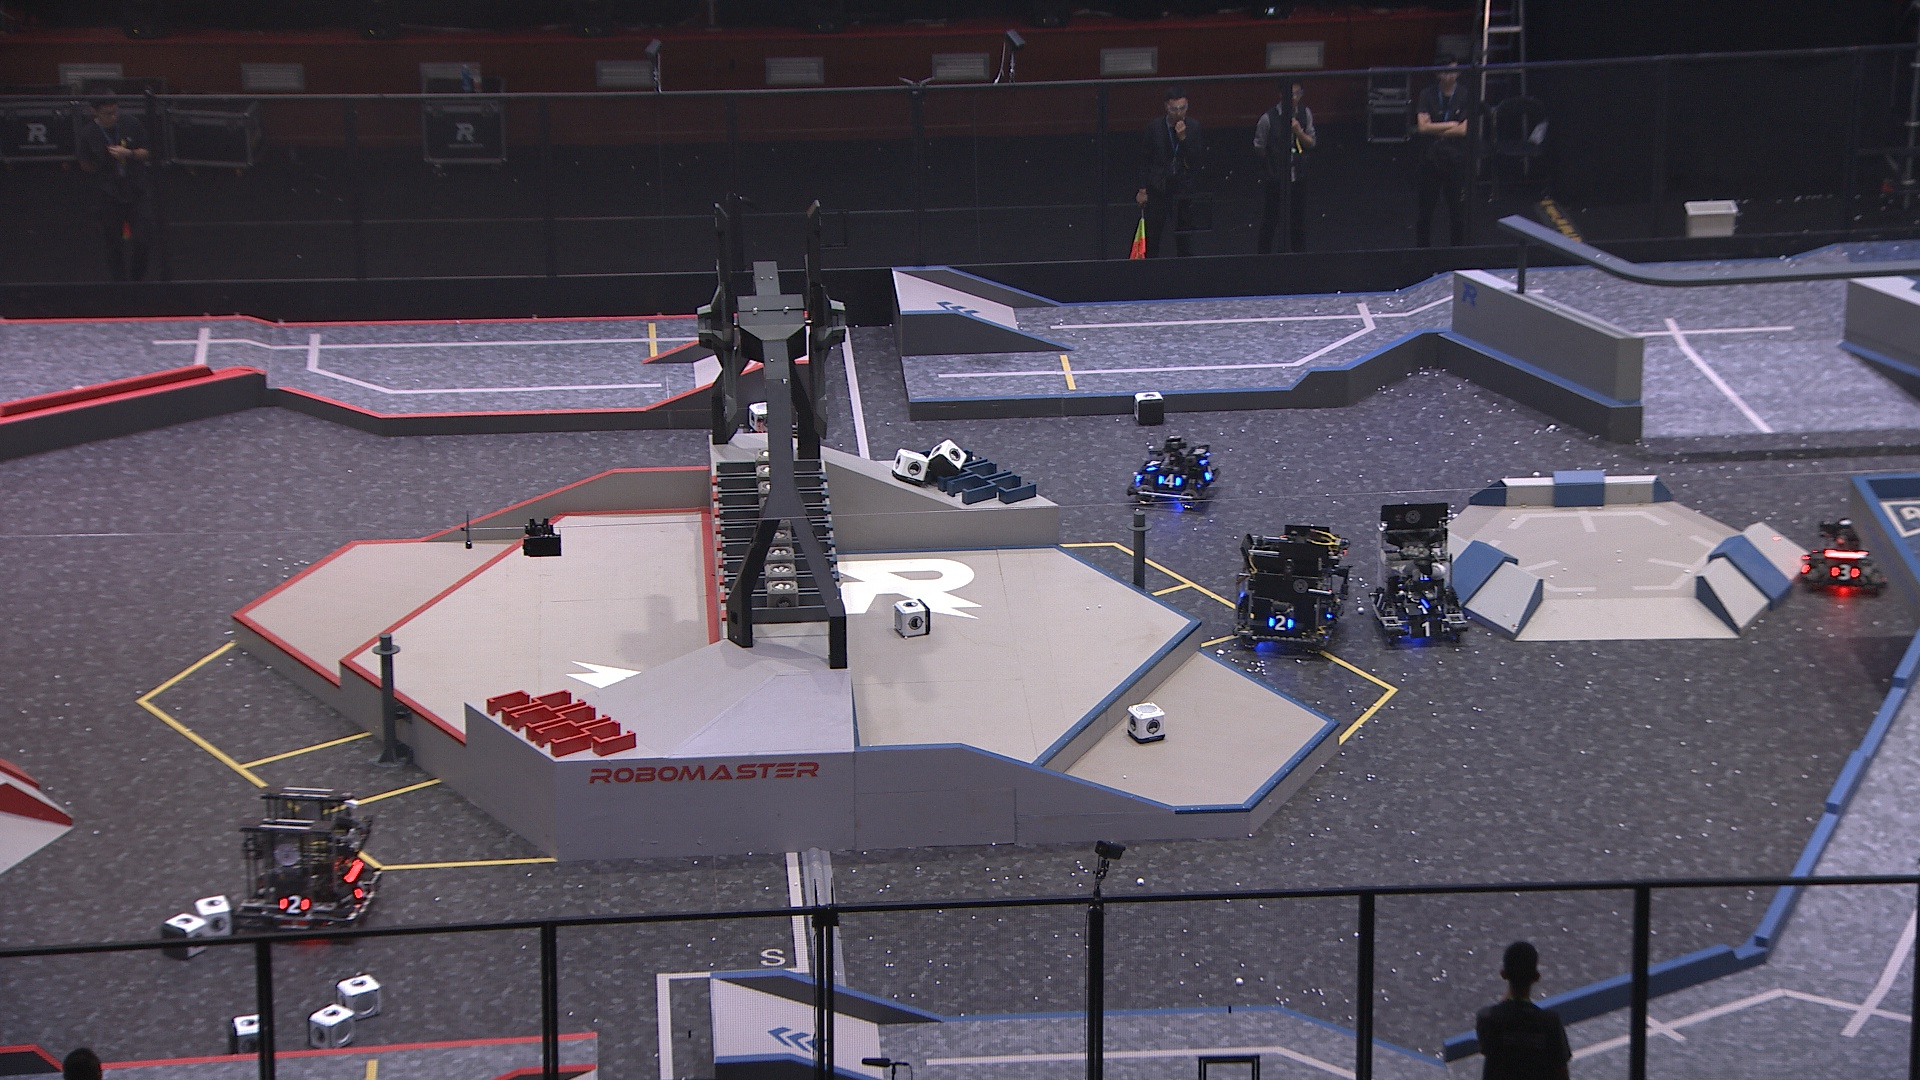armor: (1411, 621, 1447, 642), (276, 894, 311, 915), (353, 874, 375, 899), (1403, 600, 1439, 615), (1830, 564, 1858, 582), (1266, 616, 1294, 632), (1156, 472, 1182, 489), (1371, 585, 1385, 616), (1201, 463, 1216, 485), (1145, 455, 1160, 471)
car: (233, 787, 385, 938), (1234, 520, 1353, 657), (1367, 498, 1466, 650), (1126, 434, 1220, 516), (1801, 517, 1899, 593)
